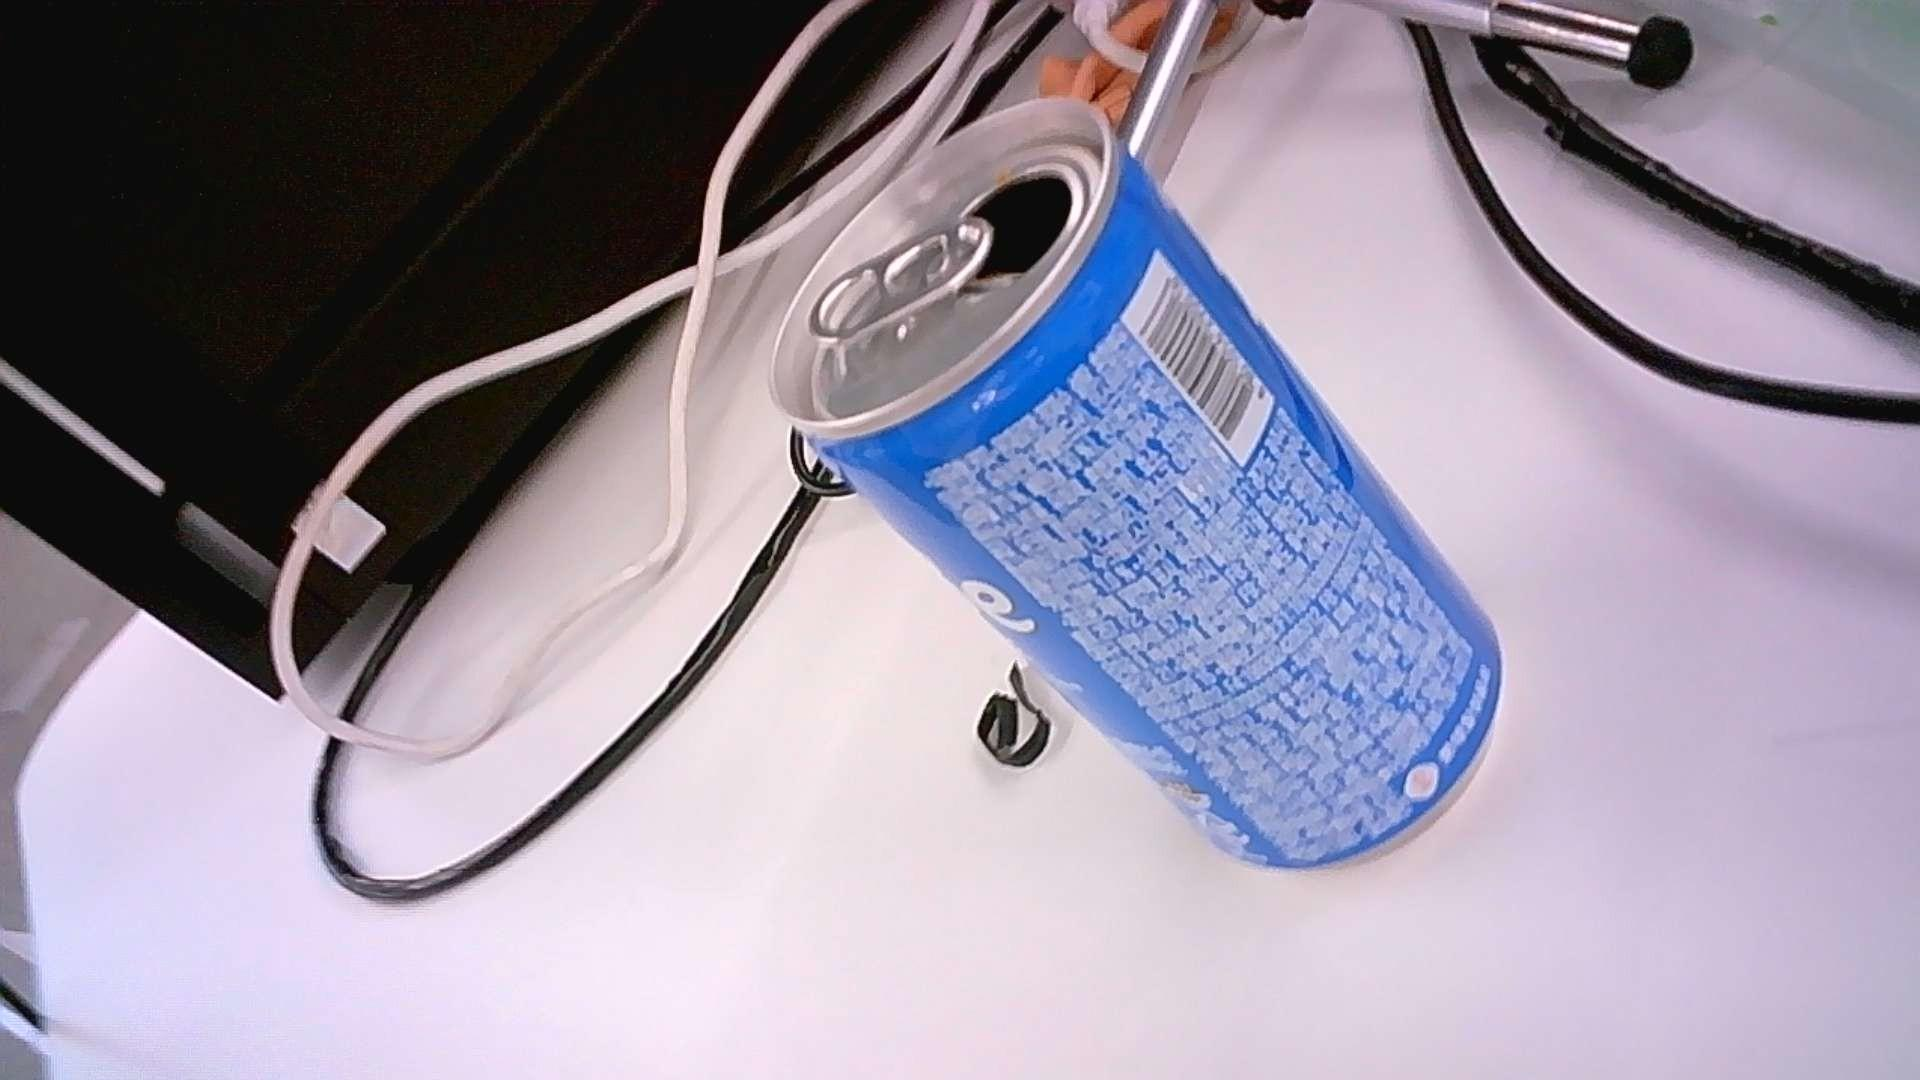letsbe: (765, 94, 1501, 872)
